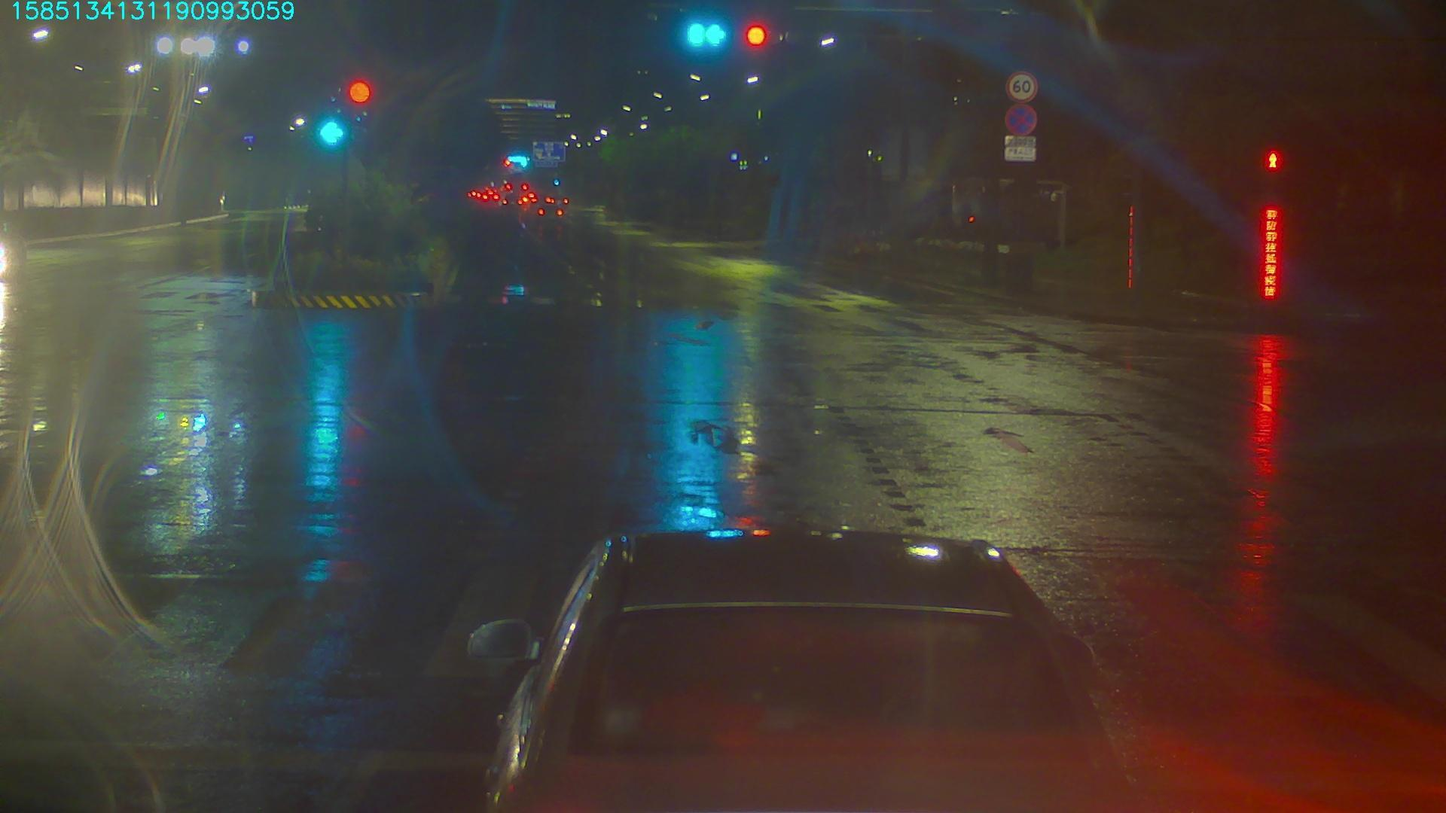green: (680, 21, 725, 47)
red: (745, 20, 766, 45)
